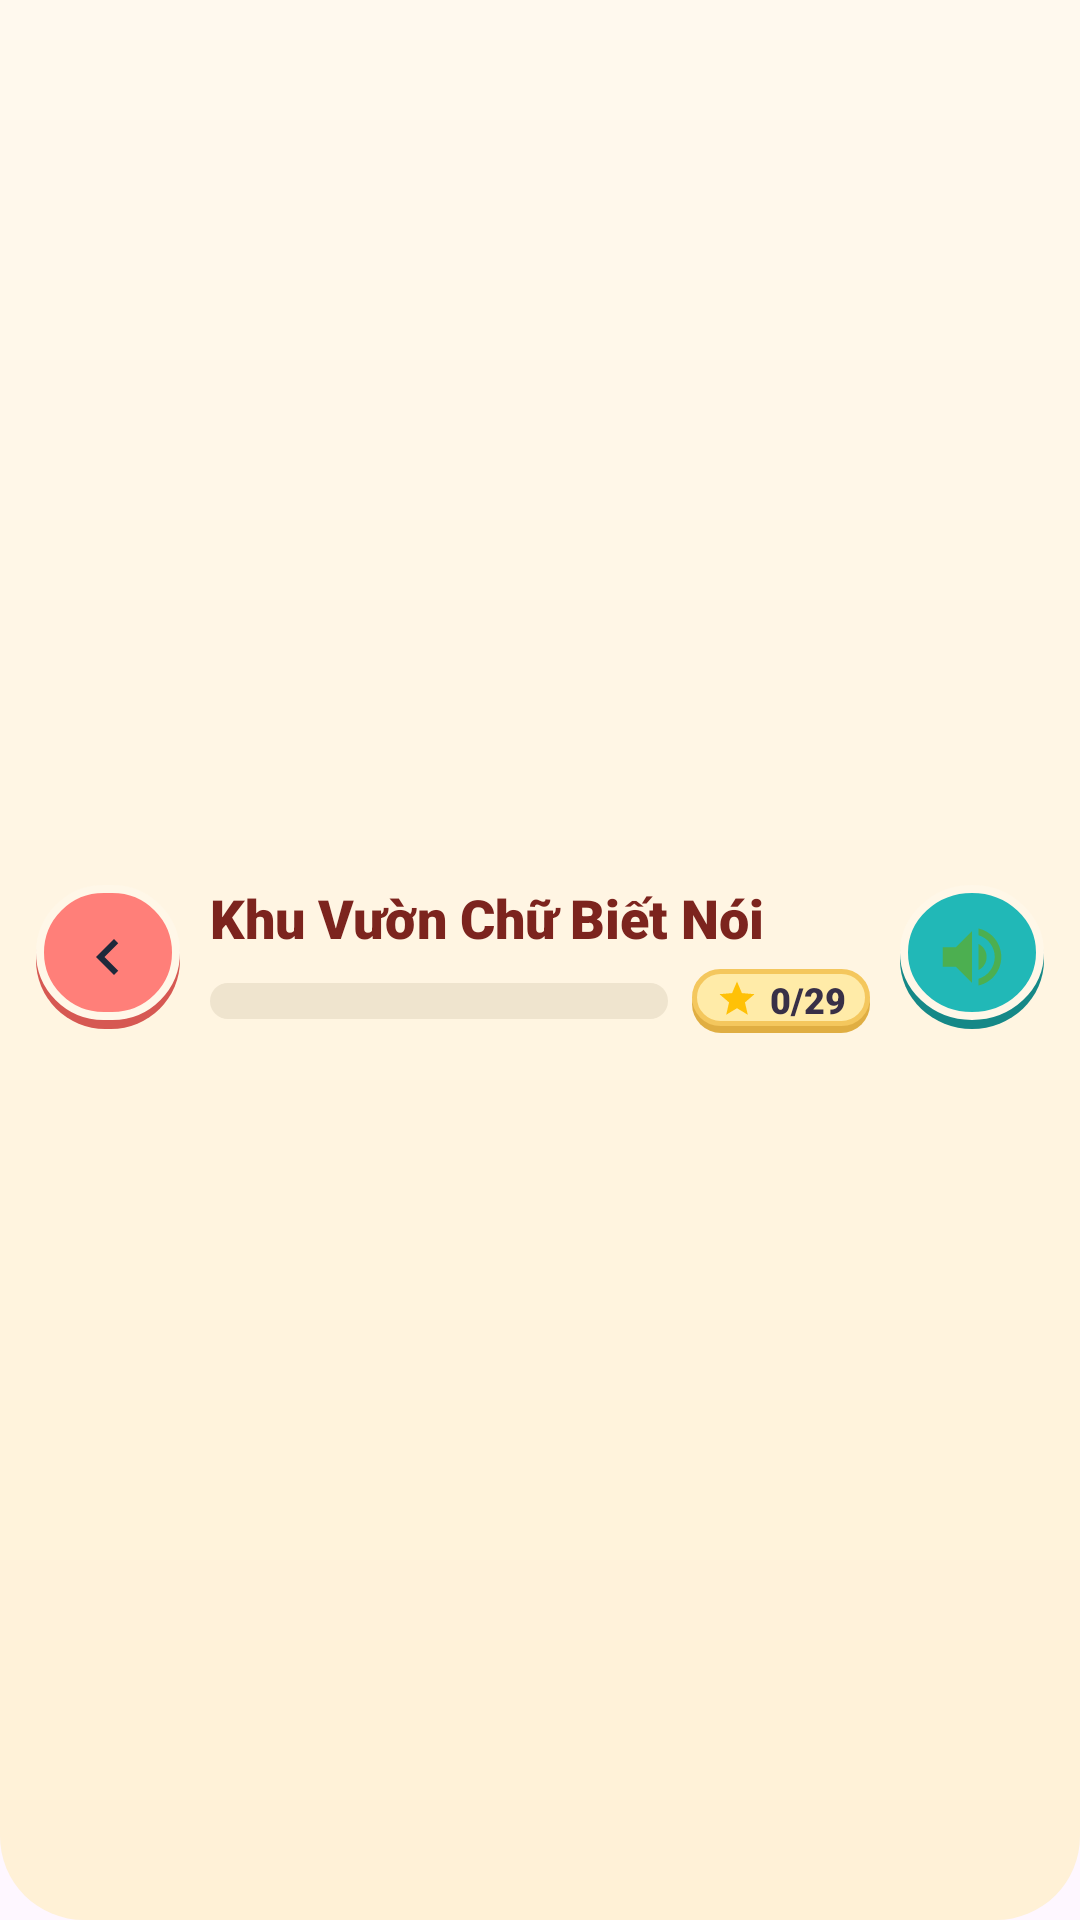

Point at icon controls on the screen. Image size 1080px x 1920px, points as [x,y].
Bật hoặc tắt âm thanh ứng dụng: [972,961]
Quay lại: [108,961]
star: [737,998]
